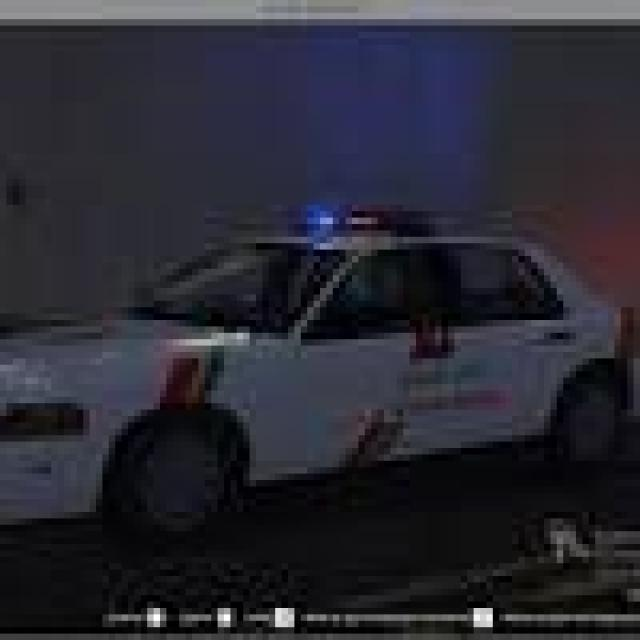police: (0, 210, 640, 526)
